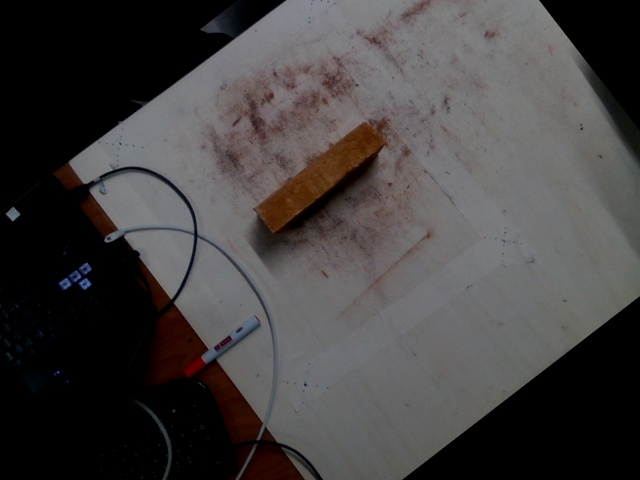brick-side: (256, 119, 383, 232)
